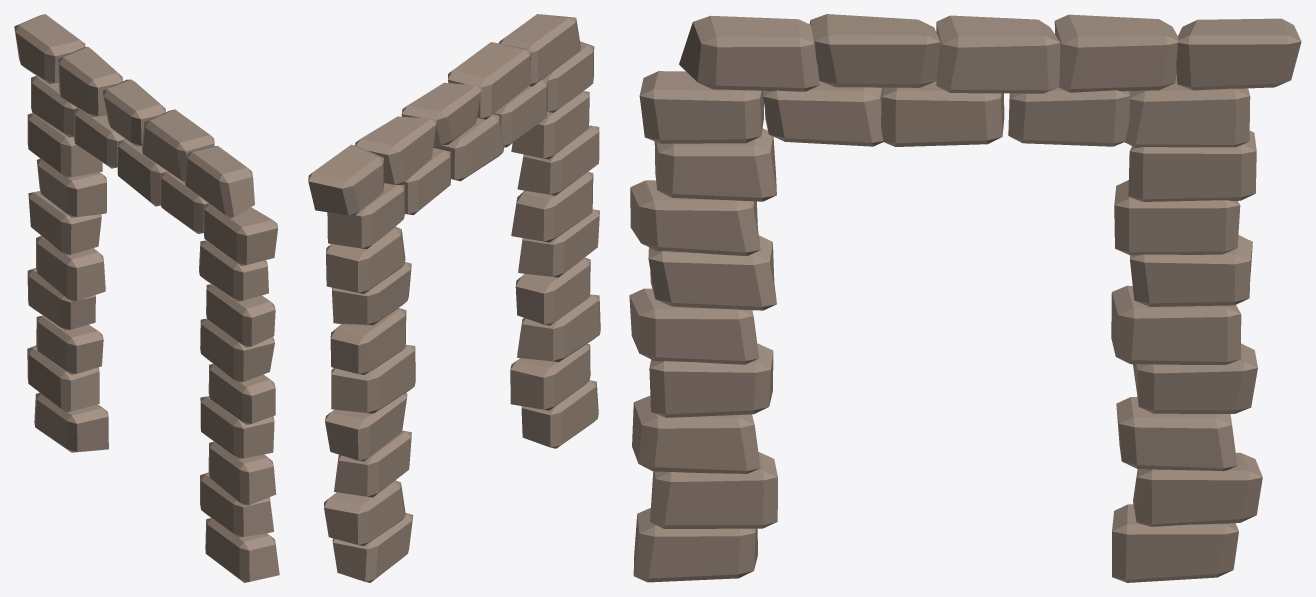
Rendered from Fence wall.fbx.
3 views of the same model, side by side, from view 1: azimuth 30°, elevation 25°; view 2: azimuth 150°, elevation 25°; view 3: azimuth 270°, elevation 25° (orthographic). The views are drawn at different scales.
Parts seen in each view (by area): view 1: Fence Wall; view 2: Fence Wall; view 3: Fence Wall.
Part boxes in pixels (left/top/right/bottom): Fence Wall: left=14, top=14, right=279, bottom=582; Fence Wall: left=308, top=14, right=600, bottom=582; Fence Wall: left=629, top=14, right=1301, bottom=582.
Bounding box in the file's own units: 223 × 2055 × 2285.
